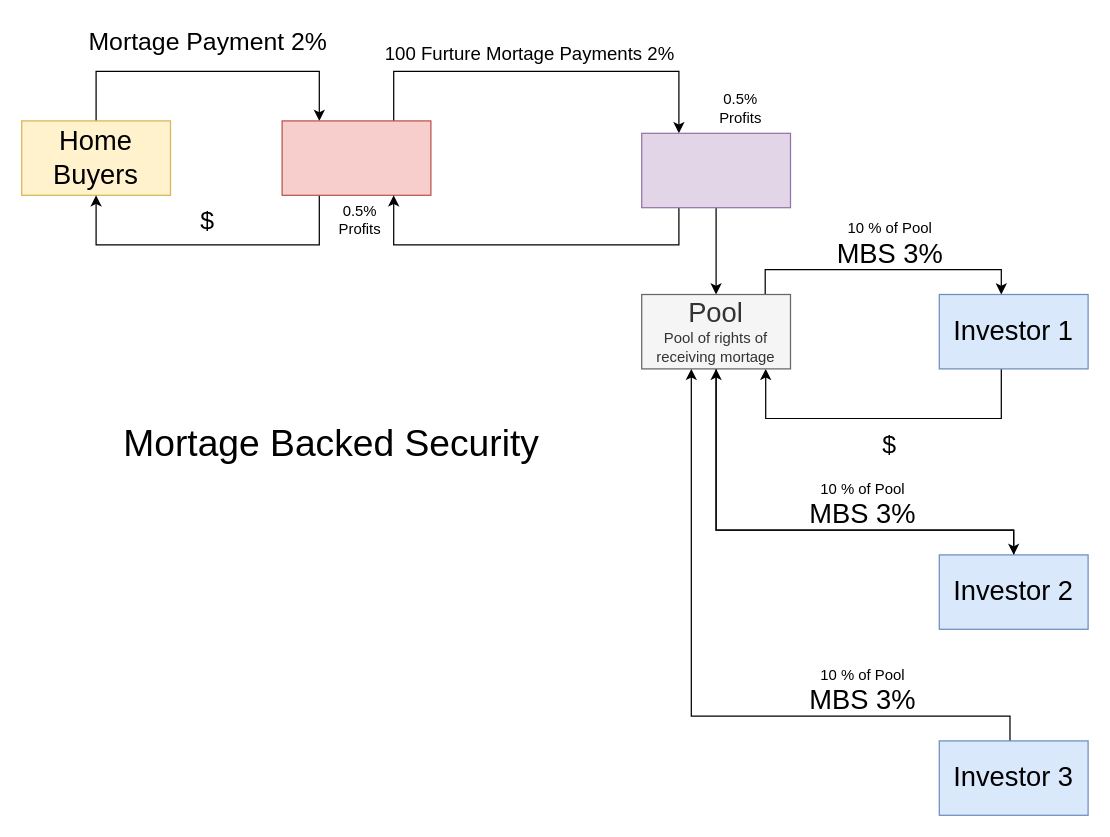
Some shapes in this 1110 by 837 pixel diagram are drawn without their labels. Each missing label, with the centre of its shape:
"Bank" goes at pixel 356 157.
"SPV (Special Purpose Vehicle)" goes at pixel 715 170.
